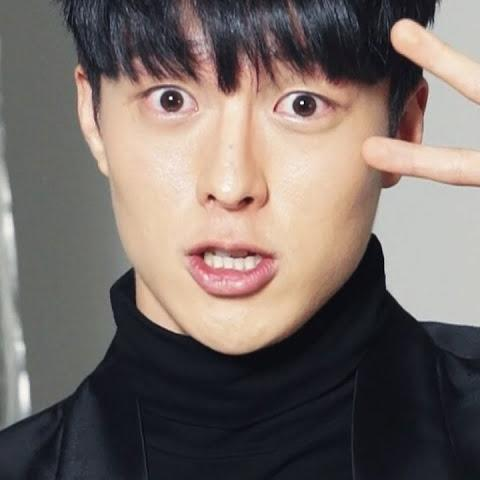opened: (67, 26, 420, 144)
